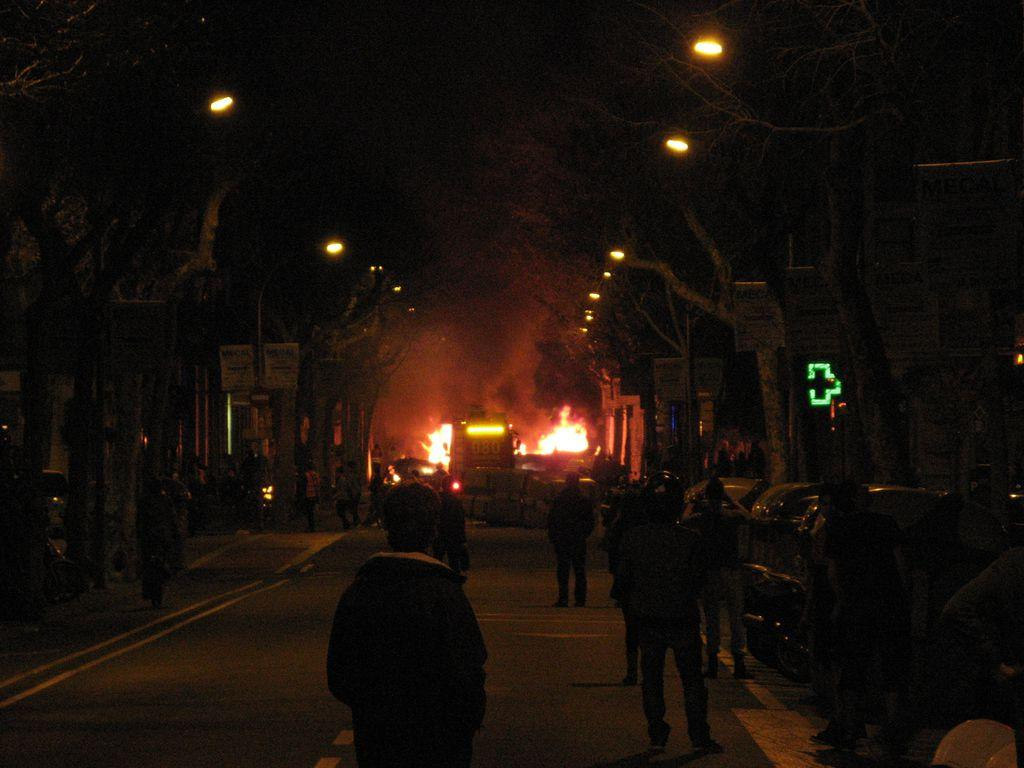fire: (536, 408, 588, 458), (420, 430, 460, 468)
